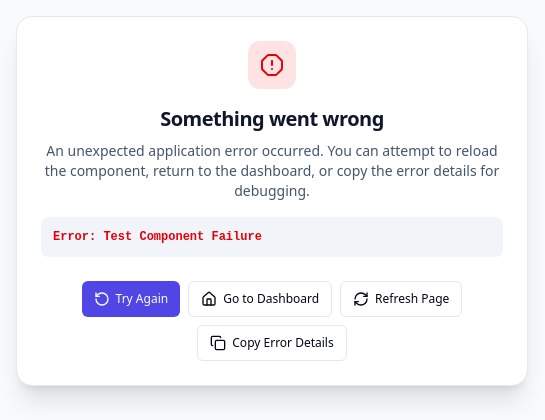
it: ErrorBoundary Component › copies error details to clipboard when copy button is clicked
What coordinates should you click on to do the following:
click the button "Copy Error Details"
I would click on:
 (272, 343)
Its box is [197,325,347,361].
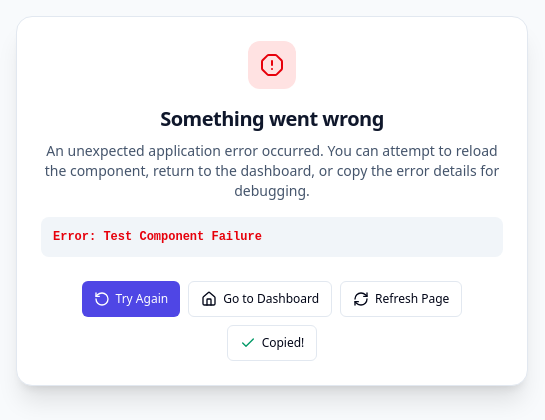
Now the button "Copied!" is shown, box [227,325,317,361]
